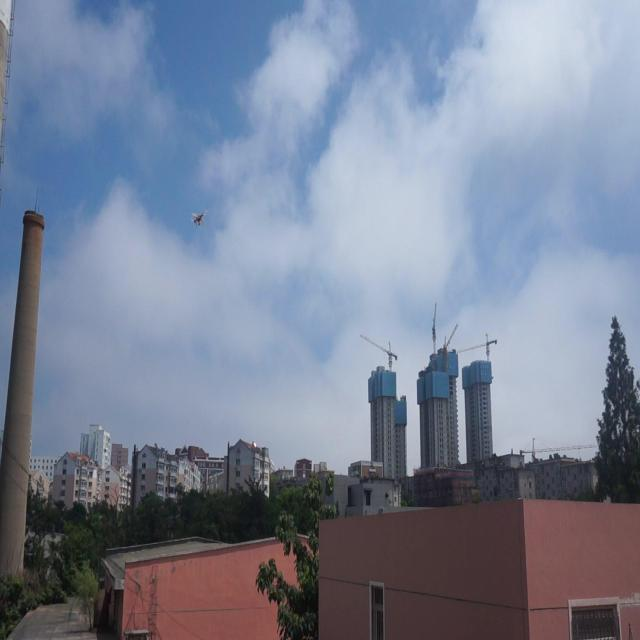drone: (188, 205, 208, 232)
